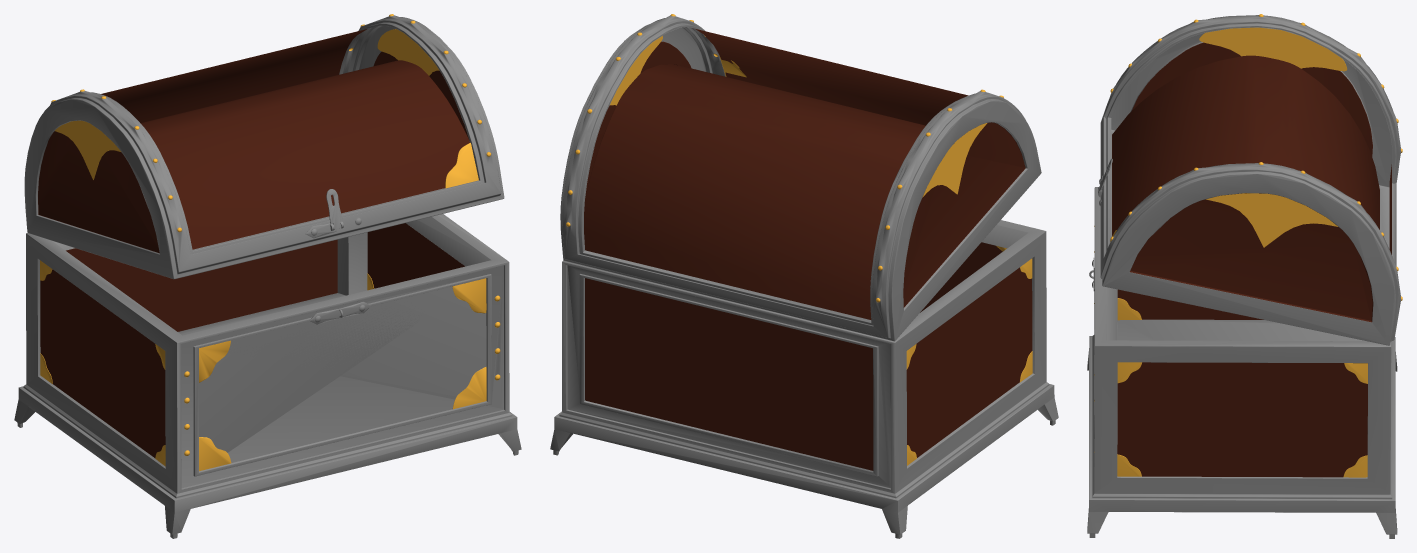
File: chest.fbx
3 views of the same model, side by side, from view 1: azimuth 30°, elevation 25°; view 2: azimuth 150°, elevation 25°; view 3: azimuth 270°, elevation 25° (orthographic). The views are drawn at different scales.
Parts seen in each view (by area): view 1: Cylinder.013; view 2: Cylinder.013; view 3: Cylinder.013.
Part boxes in pixels (left/top/right/bottom): Cylinder.013: left=14, top=14, right=521, bottom=538; Cylinder.013: left=550, top=14, right=1058, bottom=538; Cylinder.013: left=1087, top=14, right=1402, bottom=538.
Size of the model in its own units: 10.22 by 10.48 by 8.15.
